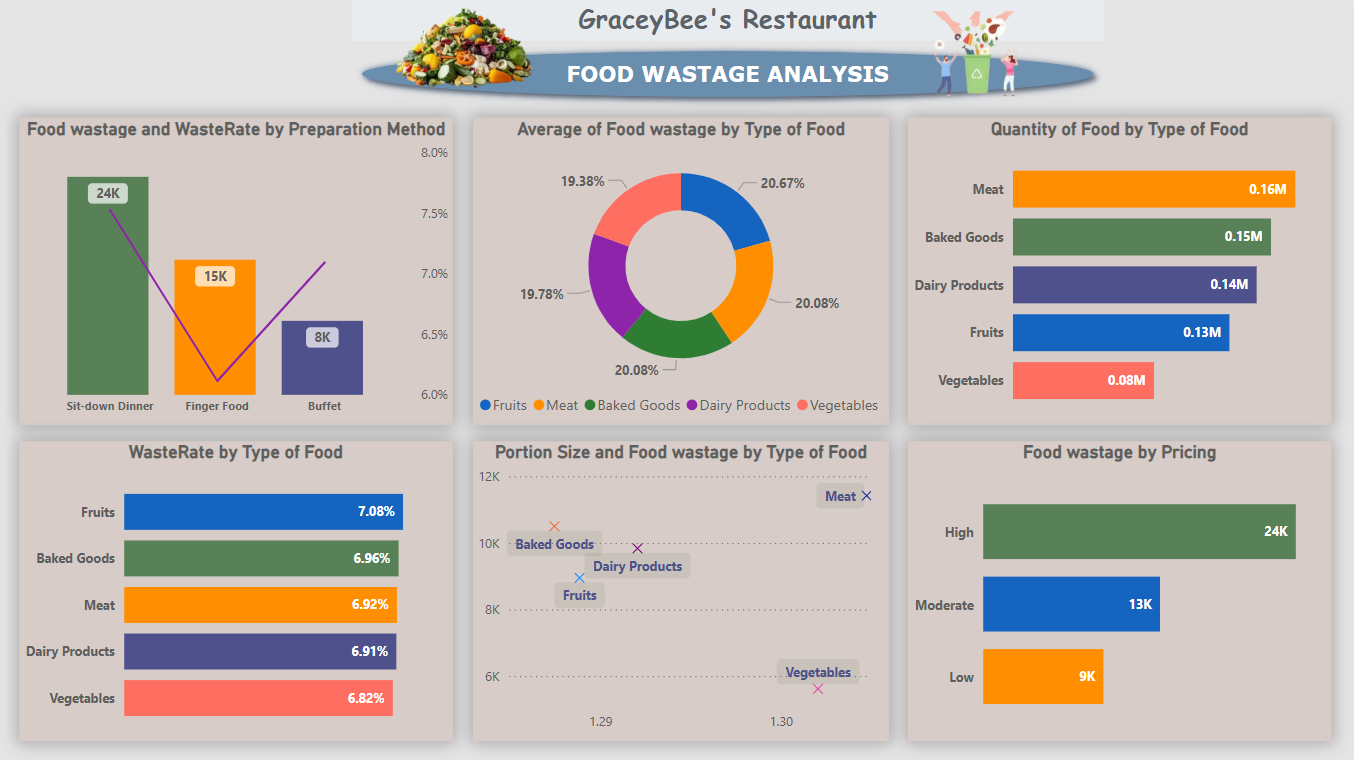

The dashboard page shown, as its layout file describes it:
{"tool":"powerbi","page":{"name":"Page 1","canvas":[1280,720],"ordinal":0},"visuals":[{"type":"lineClusteredColumnComboChart","title":"Food wastage and WasteRate by Preparation Method","fields":{"Category":["food_wastage_data.Preparation Method"],"Y":["Sum(food_wastage_data.Wastage Food Amount)"],"Y2":["food_wastage_data.WasteRate"]},"box":[25,110,408.3,289.2],"z":0},{"type":"donutChart","fields":{"Category":["food_wastage_data.Type of Food"],"Y":["Avg(food_wastage_data.Wastage Food Amount)"]},"box":[451.4,110.3,391.7,289.5],"z":1000},{"type":"barChart","title":"Quantity of Food by Type of Food","fields":{"Category":["food_wastage_data.Type of Food"],"Y":["Sum(food_wastage_data.Quantity of Food)"]},"box":[861.5,110.3,398.6,289.5],"z":2000},{"type":"scatterChart","title":"Portion Size and Food wastage by Type of Food","fields":{"Category":["food_wastage_data.Type of Food"],"X":["food_wastage_data.PortionSize"],"Y":["Sum(food_wastage_data.Wastage Food Amount)"]},"box":[451.4,415.8,391.7,282.6],"z":3000},{"type":"clusteredBarChart","fields":{"Category":["food_wastage_data.Type of Food"],"Y":["food_wastage_data.WasteRate"]},"box":[25.3,415.8,407.8,282.6],"z":4000},{"type":"clusteredBarChart","title":"Food wastage by Pricing","fields":{"Category":["food_wastage_data.Pricing"],"Y":["Sum(food_wastage_data.Wastage Food Amount)"]},"box":[861.5,415.8,398.6,282.6],"z":5000},{"type":"shape","title":"GraceyBee''s Restaurant","box":[338,0,707.8,100.9],"z":6000,"group":"g1"},{"type":"image","box":[850.7,5.7,149.7,95.3],"z":7000,"group":"g1"},{"type":"image","box":[372,0,145.2,89.6],"z":8000,"group":"g1"},{"type":"group","id":"g1","title":"Group 1","box":[338,0,707.8,100.9],"z":8001}]}

Visuals, with their boxes in screenshot pixels (x1, y1, x2, y2), scaled from the page's 1280x720 canvas onto the 1354x760 screenshot:
"Food wastage and WasteRate by Preparation Method" lineClusteredColumnComboChart: <box>26,116,458,421</box>
donutChart - food_wastage_data.Type of Food x Avg(food_wastage_data.Wastage Food Amount): <box>477,116,892,422</box>
"Quantity of Food by Type of Food" barChart: <box>911,116,1333,422</box>
"Portion Size and Food wastage by Type of Food" scatterChart: <box>477,439,892,737</box>
clusteredBarChart - food_wastage_data.Type of Food x food_wastage_data.WasteRate: <box>27,439,458,737</box>
"Food wastage by Pricing" clusteredBarChart: <box>911,439,1333,737</box>
"GraceyBee''s Restaurant" shape: <box>358,0,1106,107</box>
image: <box>900,6,1058,107</box>
image: <box>394,0,547,95</box>
"Group 1" group: <box>358,0,1106,107</box>
